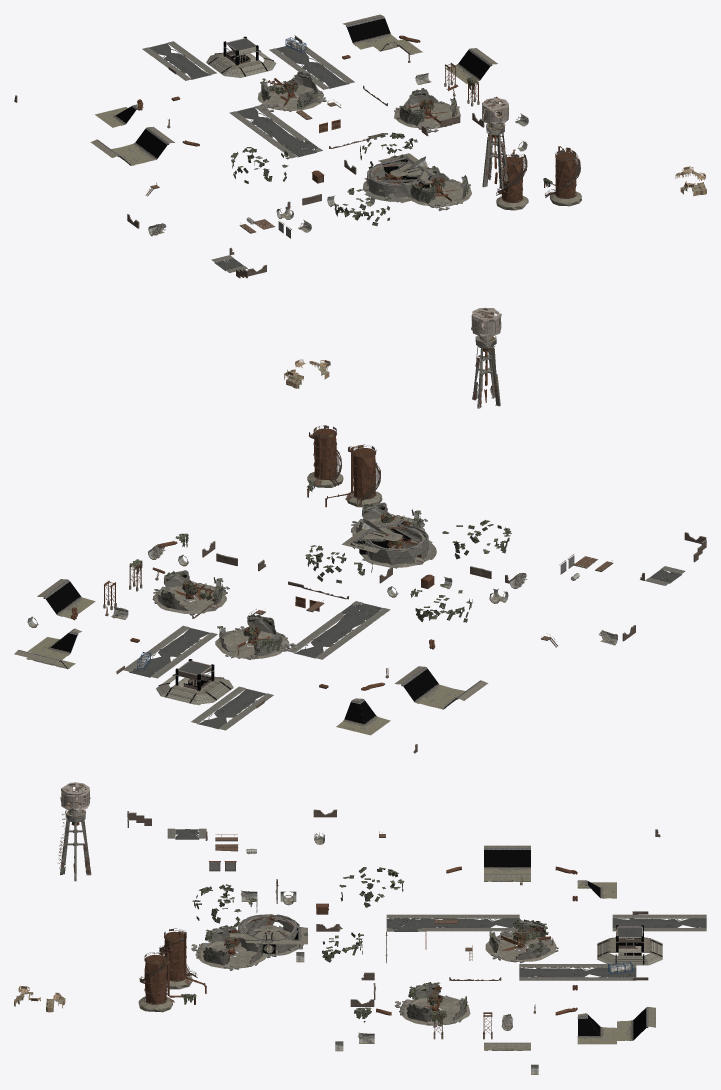
The model's file is water_treatment_plant_1-map.glb.
3 renders of one model, top to bottom at view 1: azimuth 30°, elevation 25°; view 2: azimuth 150°, elevation 25°; view 3: azimuth 270°, elevation 25°, orthographic. The views are drawn at different scales.
Parts seen in each view (by area): view 1: road_36x15_LOD0, water_tower_industrial_LOD0, sewer_drainwall_corner_1200x1200_out_LOD0, industrial_sewage_tank_broken_LOD0, creeping_plant_pipe_100x600_temperate, pipeline_200x300_LOD0, pipeline_100x600_end_LOD0, wall_125_end, spheretank_storage_tank_LOD0, sewer_tunnel_600_end_LOD0, corridor_train_tunnel_entrance_b_LOD0, stairs_overhang_NoRail_300x900; view 2: road_36x15_LOD0, water_tower_industrial_LOD0, sewer_drainwall_corner_1200x1200_out_LOD0, industrial_sewage_tank_broken_LOD0, pipeline_200x300_LOD0, creeping_plant_pipe_100x600_temperate, wall_125_end, pipeline_100x600_end_LOD0, sewer_tunnel_600_end_LOD0, spheretank_storage_tank_LOD0; view 3: road_36x15_LOD0, water_tower_industrial_LOD0, industrial_sewage_tank_broken_LOD0, sewer_drainwall_corner_1200x1200_out_LOD0, creeping_plant_pipe_100x600_temperate, pipeline_200x300_LOD0, pipeline_100x600_end_LOD0, wall_125_end, sewer_tunnel_600_end_LOD0, spheretank_storage_tank_LOD0, stairs_overhang_NoRail_300x900, corridor_train_tunnel_entrance_b_LOD0.
Boxes of the visible parts, x1,y1,x2,y2 form: road_36x15_LOD0: (142,38,412,272); water_tower_industrial_LOD0: (113,33,581,210); sewer_drainwall_corner_1200x1200_out_LOD0: (95,16,706,203); industrial_sewage_tank_broken_LOD0: (90,14,497,206); creeping_plant_pipe_100x600_temperate: (230,71,552,225); pipeline_200x300_LOD0: (137,35,576,202); pipeline_100x600_end_LOD0: (99,17,581,229); wall_125_end: (14,35,484,278); spheretank_storage_tank_LOD0: (496,146,705,202); sewer_tunnel_600_end_LOD0: (148,73,528,236); corridor_train_tunnel_entrance_b_LOD0: (217,38,261,68); stairs_overhang_NoRail_300x900: (145,99,408,233); road_36x15_LOD0: (123,541,685,730); water_tower_industrial_LOD0: (28,307,501,726); sewer_drainwall_corner_1200x1200_out_LOD0: (18,362,480,735); industrial_sewage_tank_broken_LOD0: (14,504,488,701); pipeline_200x300_LOD0: (71,429,435,690); creeping_plant_pipe_100x600_temperate: (129,481,511,654); wall_125_end: (116,532,706,753); pipeline_100x600_end_LOD0: (19,327,607,702); sewer_tunnel_600_end_LOD0: (27,518,617,645); spheretank_storage_tank_LOD0: (288,360,380,506); road_36x15_LOD0: (167,828,706,980); water_tower_industrial_LOD0: (58,782,633,1050); industrial_sewage_tank_broken_LOD0: (196,845,655,1047); sewer_drainwall_corner_1200x1200_out_LOD0: (14,848,662,1050); creeping_plant_pipe_100x600_temperate: (181,867,548,1025); pipeline_200x300_LOD0: (144,866,577,1039); pipeline_100x600_end_LOD0: (60,804,648,1043); wall_125_end: (127,809,662,1006); sewer_tunnel_600_end_LOD0: (240,832,538,1074); spheretank_storage_tank_LOD0: (18,928,206,1004); stairs_overhang_NoRail_300x900: (215,831,472,960); corridor_train_tunnel_entrance_b_LOD0: (608,926,651,955).
Bounding box in the file's own units: 211 × 78.56 × 266.
Materials: 47 (47 with a texture image).
